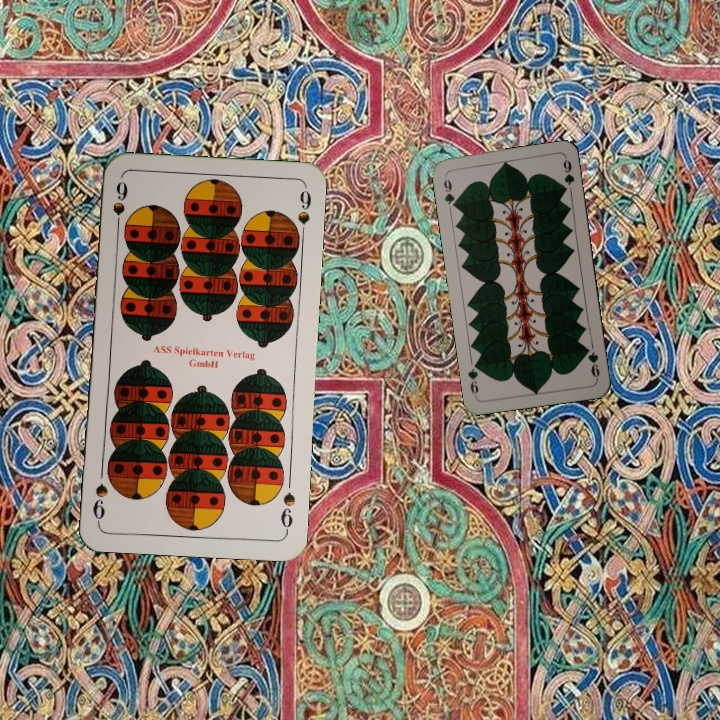G9: (581, 343, 602, 382), (440, 175, 459, 211)
S9: (108, 177, 131, 236), (277, 488, 298, 535)
